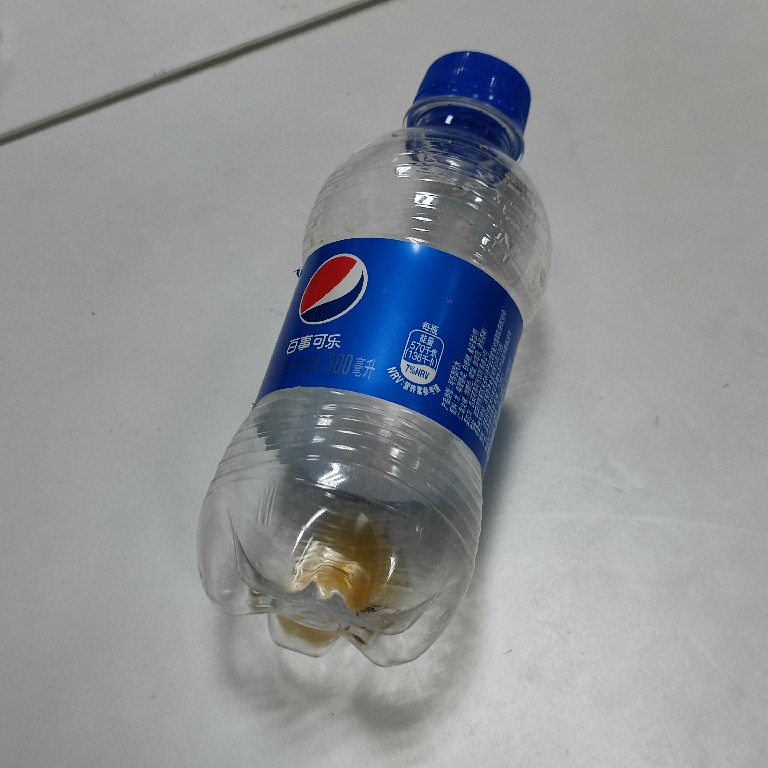bottle: (195, 47, 557, 670)
